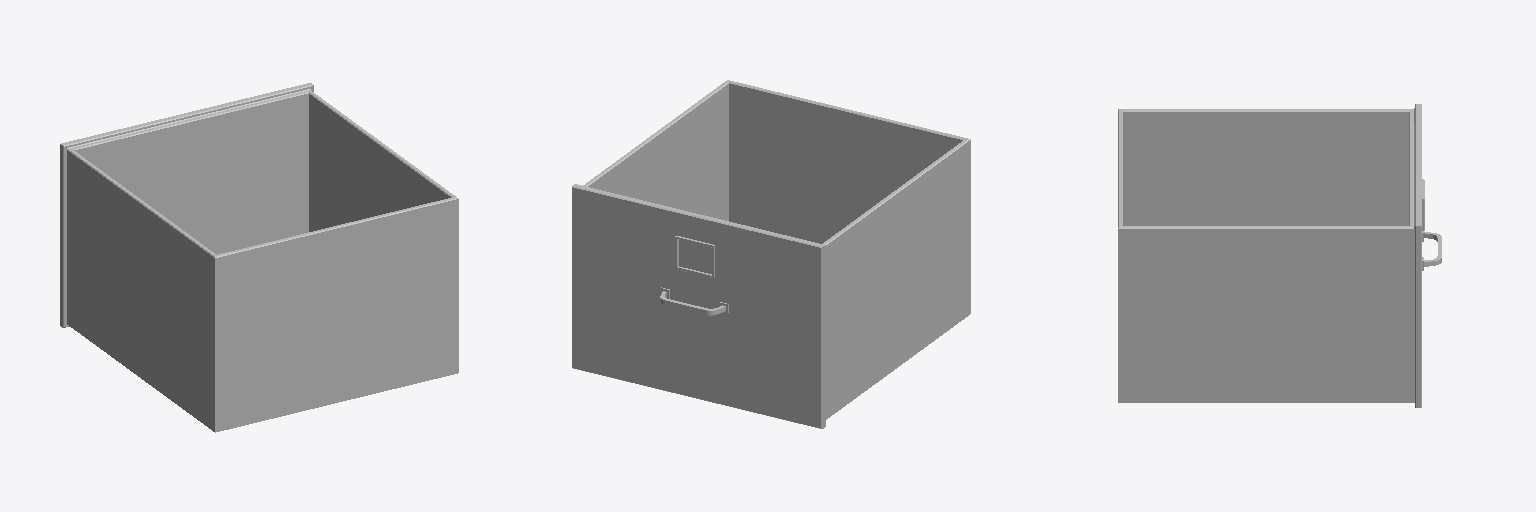
Rendered from SM_FileCabinetSmallDrawer_001.obj.
3 renders of one model, left to right at view 1: azimuth 30°, elevation 25°; view 2: azimuth 150°, elevation 25°; view 3: azimuth 270°, elevation 25°, orthographic.
Visible parts, largest first — view 1: pCube111; view 2: pCube111; view 3: pCube111.
Part boxes in pixels (x1,y1,x2,y2): pCube111: (60, 83, 458, 432); pCube111: (572, 80, 970, 428); pCube111: (1118, 104, 1441, 407).
Bounding box in the file's own units: 64.04 × 44.54 × 71.77.